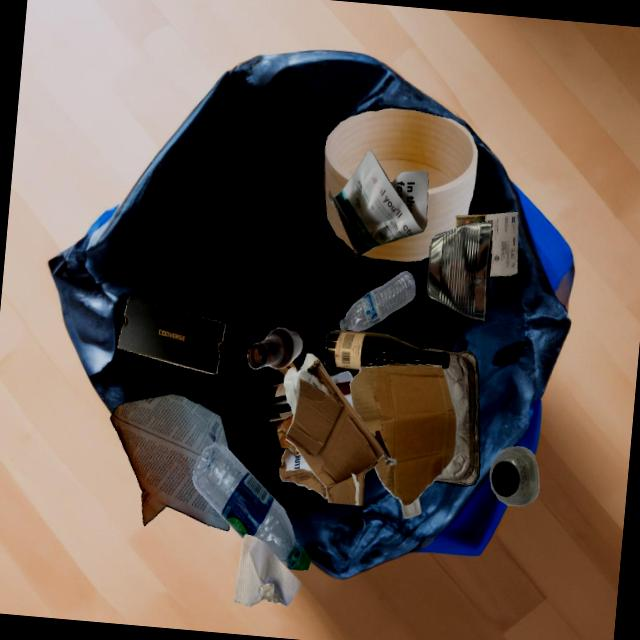cardboard: (283, 353, 396, 506), (349, 363, 456, 505), (117, 297, 224, 374), (316, 381, 350, 477), (278, 448, 316, 489)
combustible waste: (323, 108, 477, 261)
glass: (323, 330, 450, 371), (247, 327, 303, 369), (269, 382, 293, 421), (334, 381, 351, 396)
metal: (421, 348, 479, 486), (426, 221, 492, 322)
paper: (110, 393, 229, 530), (327, 149, 428, 257), (234, 533, 301, 608), (455, 211, 518, 276), (276, 414, 301, 456), (277, 361, 298, 376)
plastic: (192, 442, 310, 570), (339, 271, 415, 331), (489, 446, 539, 506), (401, 497, 421, 518)
